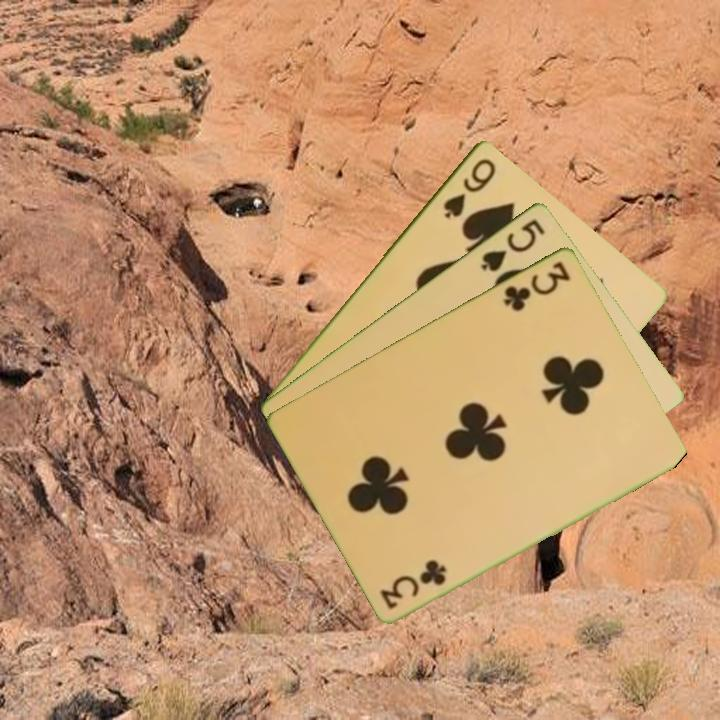3c: (500, 257, 574, 314), (378, 558, 450, 612)
5s: (477, 214, 548, 274)
9s: (439, 154, 499, 221)
